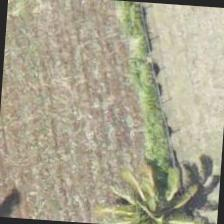Kelapa_Sawit: (109, 170, 204, 223)
